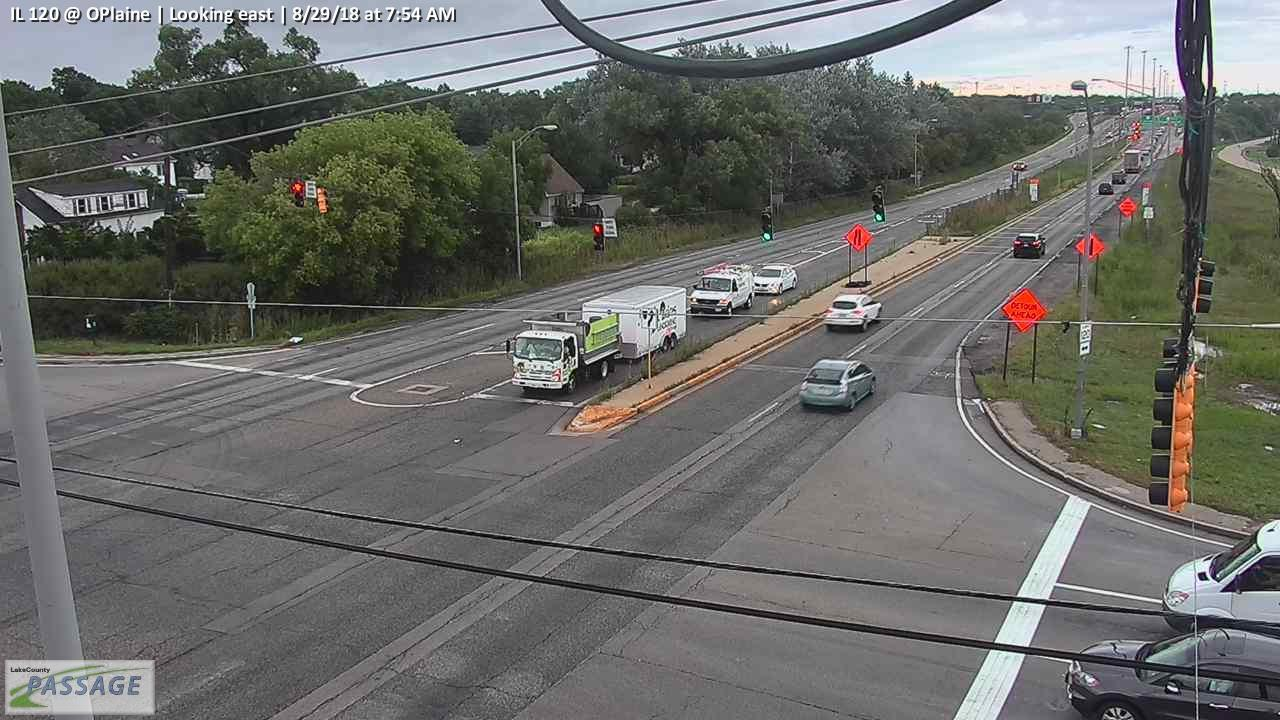SUV: (1064, 629, 1280, 720), (797, 359, 876, 409), (688, 264, 754, 316), (824, 293, 883, 333), (1012, 232, 1048, 259), (1098, 182, 1114, 194)
Sedan: (752, 263, 798, 295)
Truck: (505, 285, 686, 396), (1162, 520, 1280, 641), (1124, 149, 1145, 173), (1111, 170, 1127, 184)
